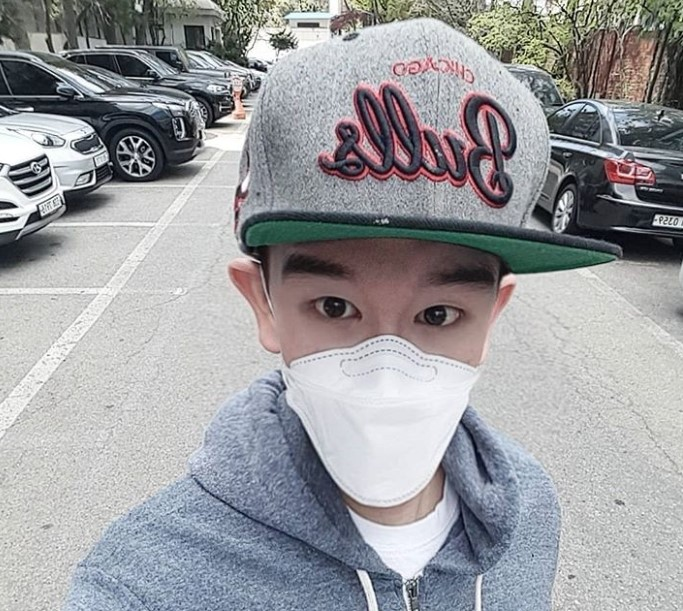face_with_mask: (239, 21, 620, 504)
